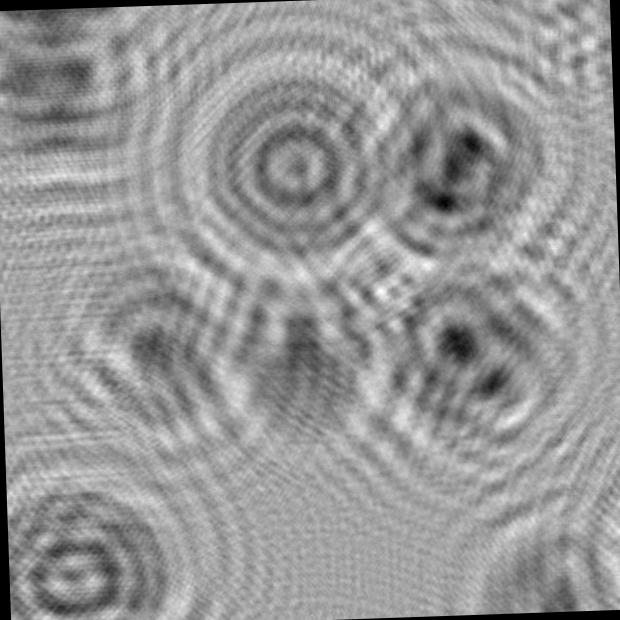B: (322, 17, 614, 295)
F: (430, 489, 620, 616)
H: (0, 3, 209, 206)
J: (28, 226, 286, 483)
O: (156, 23, 444, 313)
Q: (4, 429, 231, 620)
R: (354, 228, 620, 508)
V: (197, 235, 433, 505)
